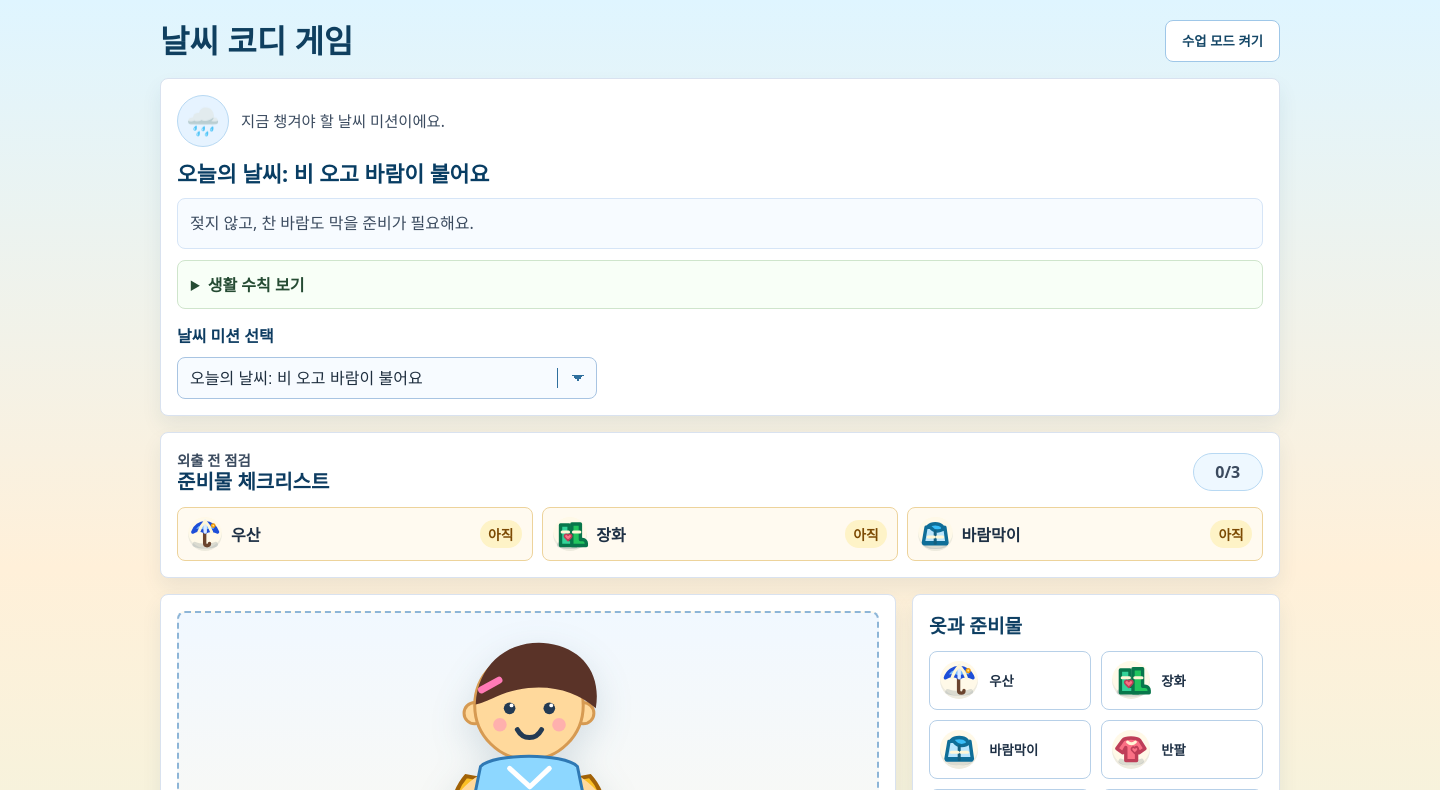
weather outfit planner › expands the 생활 수칙 and teacher prompt for the active mission
This screenshot has width=1440, height=790.
Click the heading "생활 수칙 보기" at {"x": 256, "y": 285}, box [208,274,304,296]
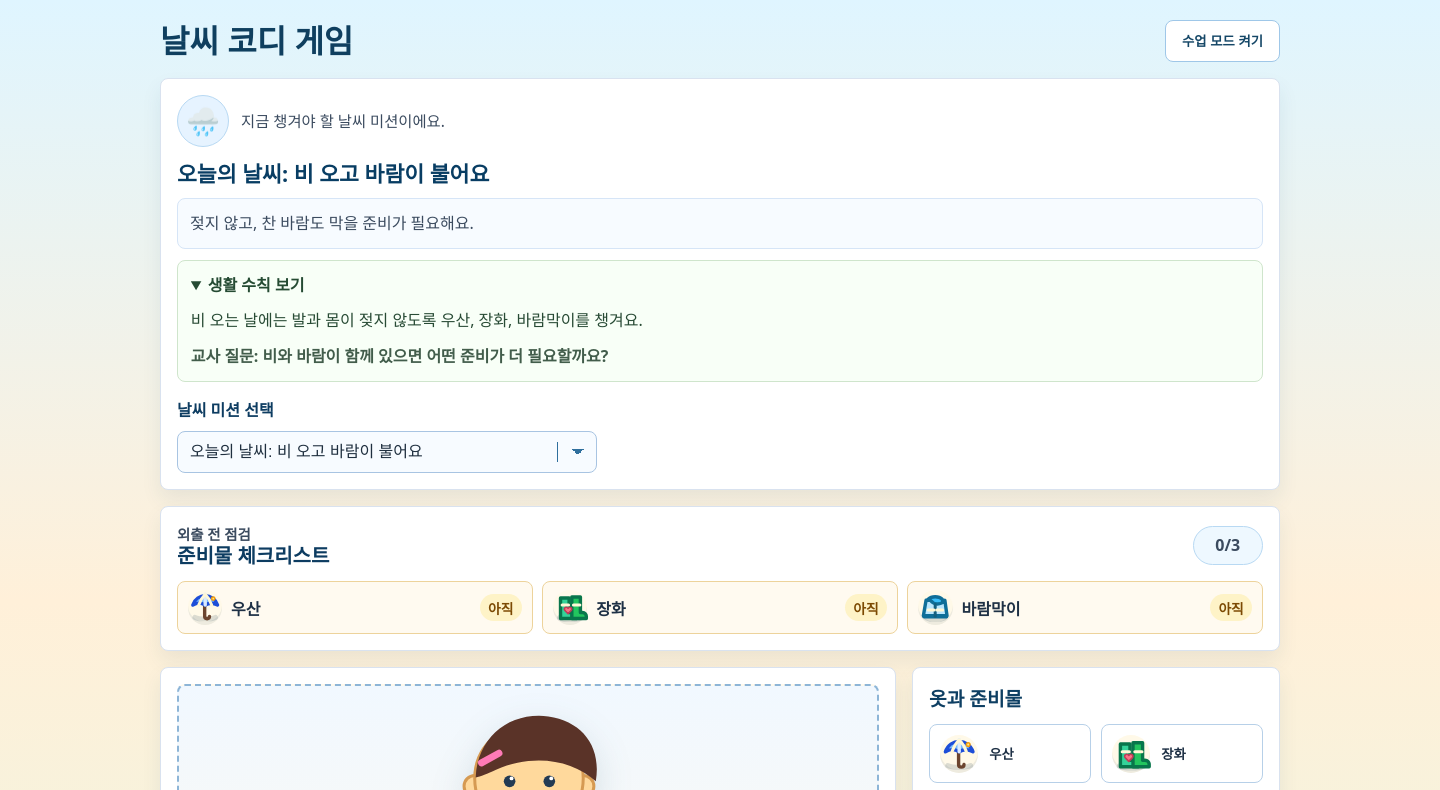
Result: the text "비 오는 날에는 발과 몸이 젖지 않도록 우산, 장화, 바람막이를 챙겨요." is shown at [191,309,643,331]
Result: the text "교사 질문: 비와 바람이 함께 있으면 어떤 준비가 더 필요할까요?" is shown at [191,345,608,367]
